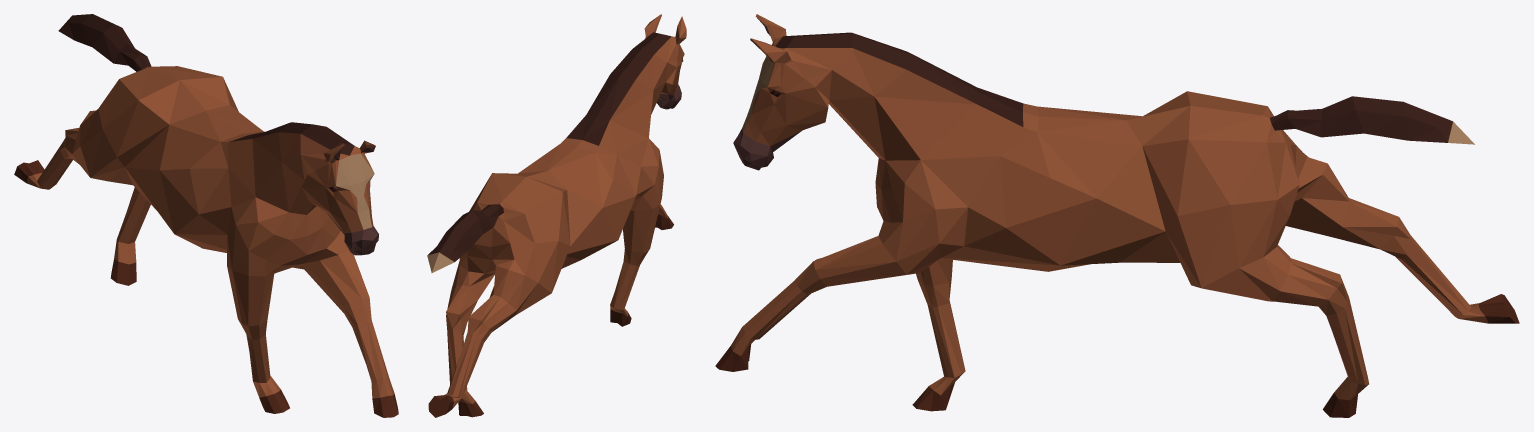
Rendered from horse.glb.
The picture shows the model from 3 angles, left to right: view 1: azimuth 30°, elevation 25°; view 2: azimuth 150°, elevation 25°; view 3: azimuth 270°, elevation 25°; orthographic projection. The views are drawn at different scales.
Visible parts, largest first — view 1: mesh_0; view 2: mesh_0; view 3: mesh_0.
Part boxes in pixels (left/top/right/bottom): mesh_0: left=14, top=14, right=398, bottom=417; mesh_0: left=427, top=14, right=686, bottom=417; mesh_0: left=715, top=14, right=1519, bottom=417.
Bounding box in the file's own units: 17.69 × 41.83 × 77.66.
